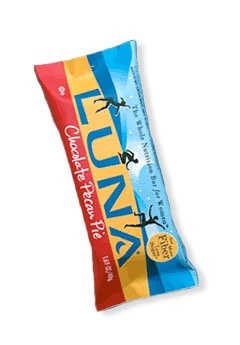grozi_93: (33, 40, 198, 312)
